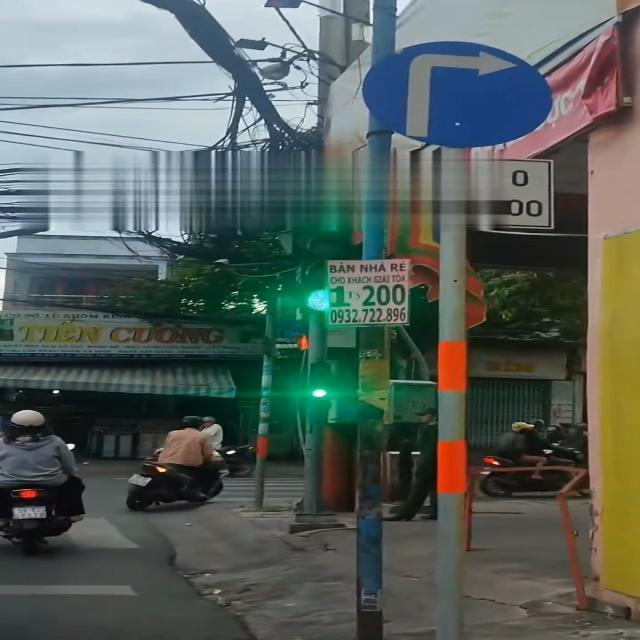301d-cac-xe-chi-duoc-re-phai-2: (356, 42, 554, 144)
